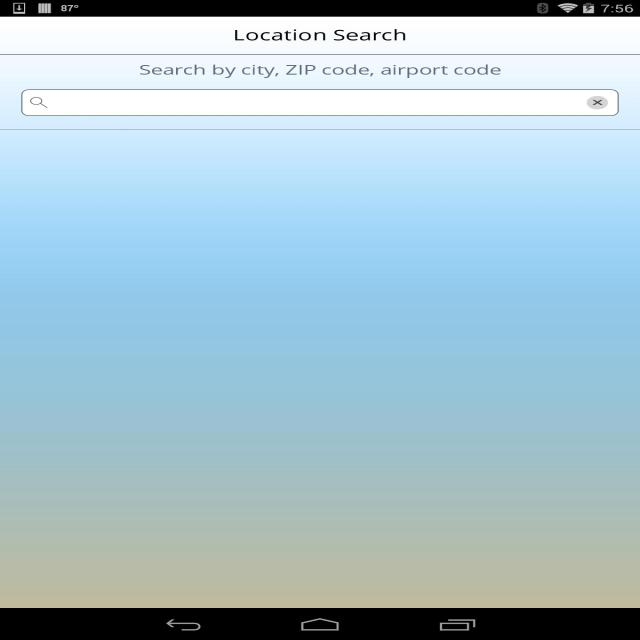button: (578, 92, 614, 110)
field: (21, 90, 619, 115)
heading: (230, 26, 410, 47)
text: (139, 60, 509, 82)
